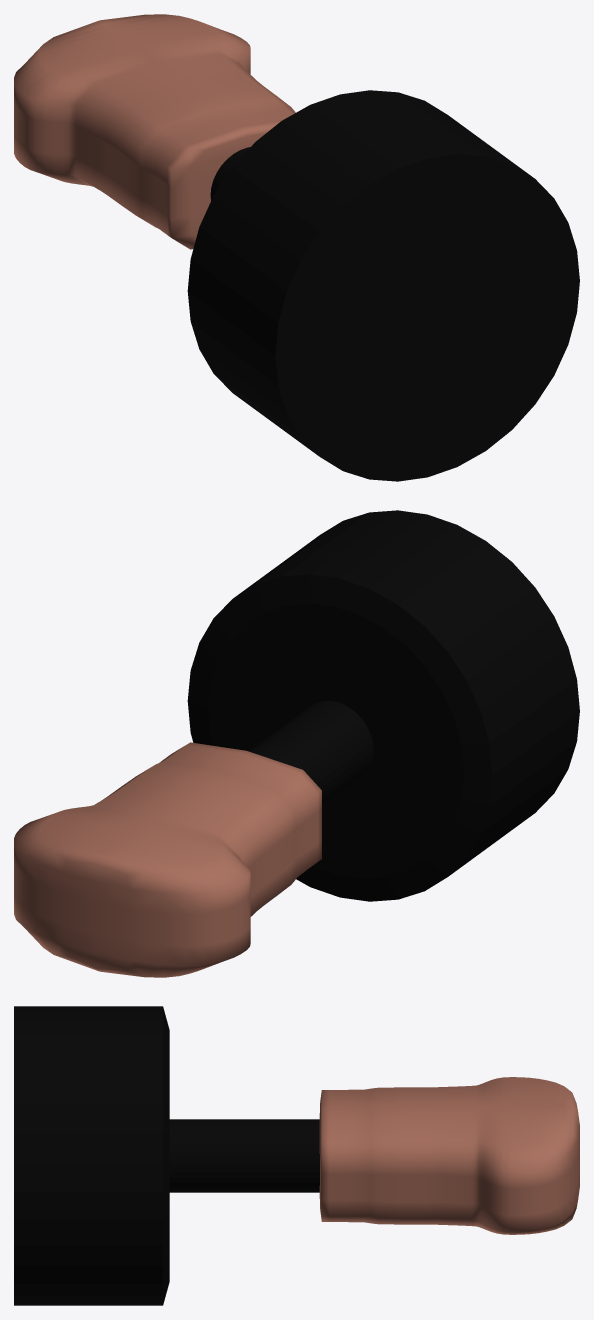
Rendered from dummy.dae.
The picture shows the model from 3 angles, top to bottom: view 1: azimuth 30°, elevation 25°; view 2: azimuth 150°, elevation 25°; view 3: azimuth 270°, elevation 25°; orthographic projection. The views are drawn at different scales.
Visible parts, largest first — view 1: Cylinder, Cube_001; view 2: Cylinder, Cube_001, Cylinder_002; view 3: Cylinder, Cube_001, Cylinder_002.
Boxes of the visible parts, x1=… form: Cylinder: x1=187, y1=90, x2=579, y2=481; Cube_001: x1=14, y1=14, x2=295, y2=249; Cylinder: x1=187, y1=510, x2=579, y2=901; Cube_001: x1=14, y1=742, x2=321, y2=977; Cylinder_002: x1=249, y1=700, x2=373, y2=804; Cylinder: x1=14, y1=1006, x2=169, y2=1305; Cube_001: x1=319, y1=1077, x2=579, y2=1234; Cylinder_002: x1=169, y1=1119, x2=319, y2=1192.
Bounding box in the file's own units: 4.21 × 7.96 × 4.21.
